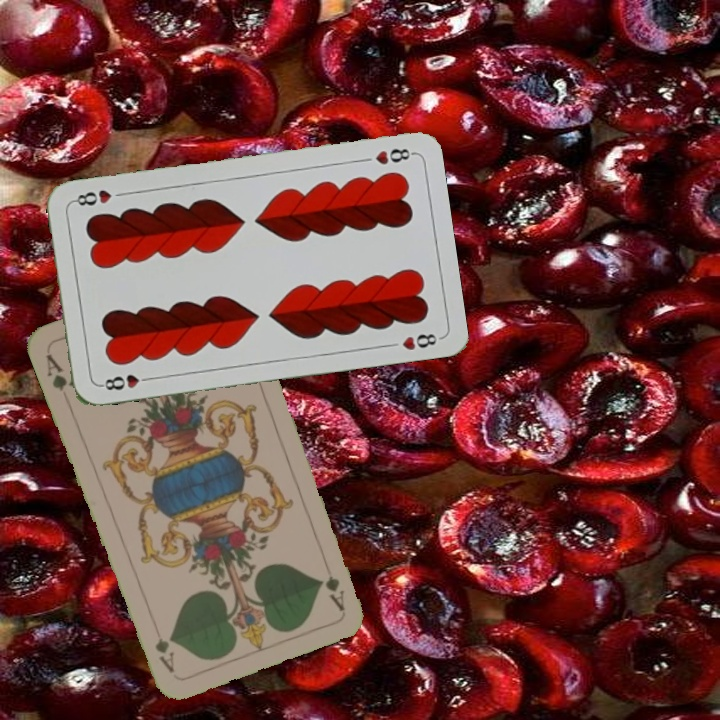GA: (41, 349, 76, 394), (321, 571, 347, 613)
H8: (96, 370, 155, 393), (371, 144, 416, 168)
